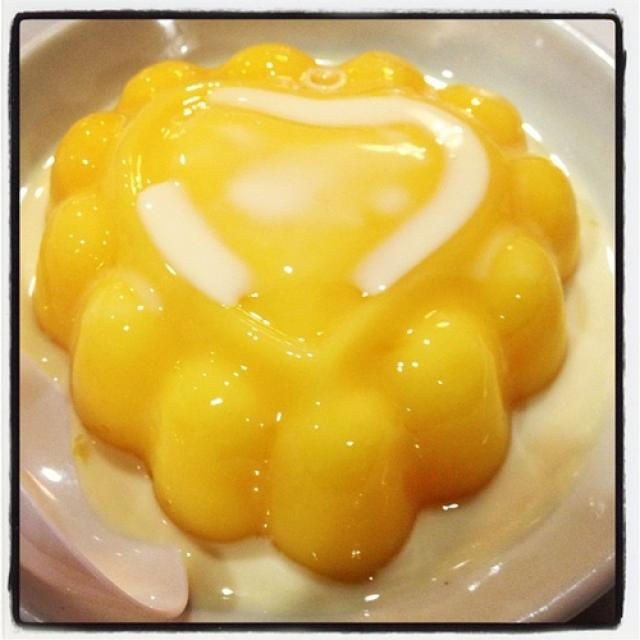蛋糕甜品: (19, 18, 617, 621)
